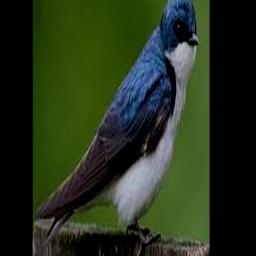Swallow: (35, 0, 199, 249)
